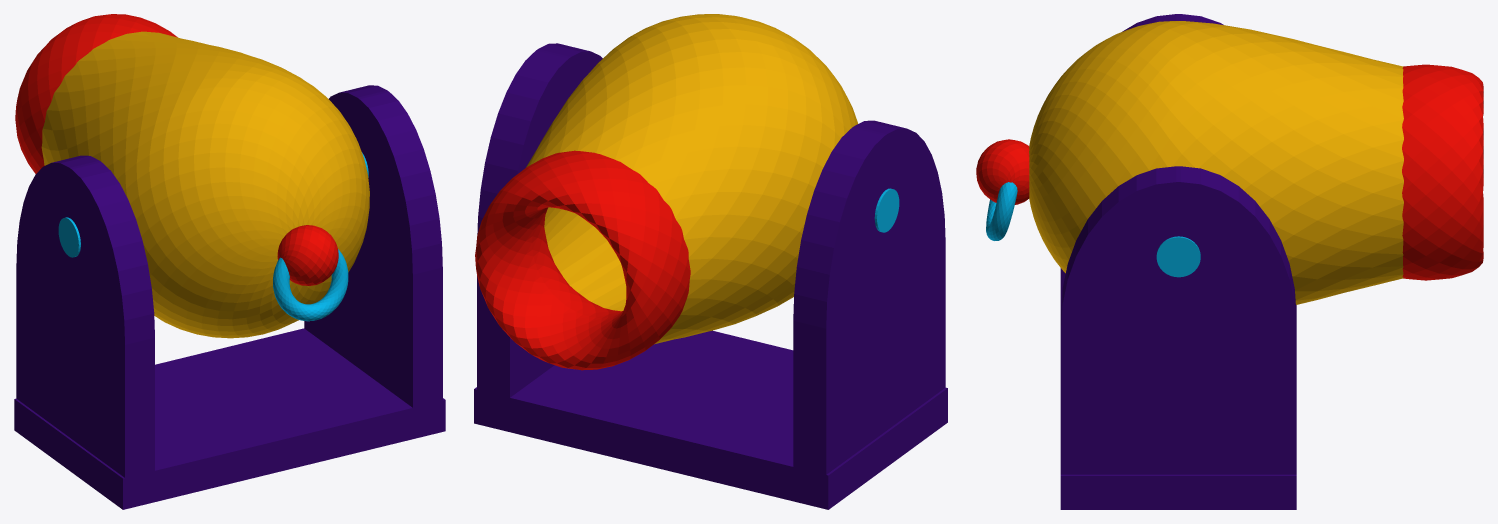
The model's file is cannon.fbx.
3 views of the same model, side by side, from view 1: azimuth 30°, elevation 25°; view 2: azimuth 150°, elevation 25°; view 3: azimuth 270°, elevation 25° (orthographic). The views are drawn at different scales.
Visible parts, largest first — view 1: Cube.001, Cylinder; view 2: Cube.001, Cylinder; view 3: Cylinder, Cube.001.
Boxes of the visible parts, bbox=[...] form: Cube.001: bbox=[14, 85, 445, 509]; Cylinder: bbox=[15, 14, 369, 338]; Cube.001: bbox=[474, 43, 947, 509]; Cylinder: bbox=[475, 14, 899, 370]; Cylinder: bbox=[976, 21, 1483, 304]; Cube.001: bbox=[1060, 14, 1296, 509].
Bounding box in the file's own units: 266 × 283 × 334.
